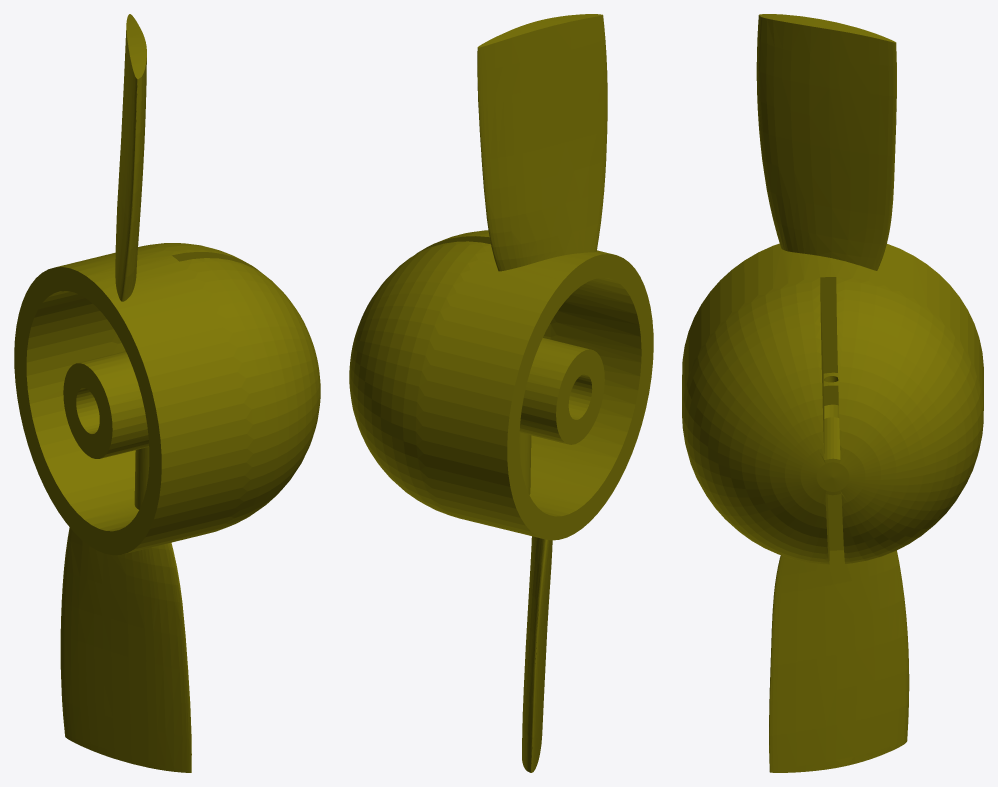
File: propeller.dae
The picture shows the model from 3 angles, left to right: view 1: azimuth 30°, elevation 25°; view 2: azimuth 150°, elevation 25°; view 3: azimuth 270°, elevation 25°; orthographic projection. The views are drawn at different scales.
Parts seen in each view (by area): view 1: Propeller_Port; view 2: Propeller_Port; view 3: Propeller_Port.
Boxes of the visible parts, left/top/right/bottom form: Propeller_Port: left=14, top=14, right=320, bottom=772; Propeller_Port: left=349, top=14, right=653, bottom=772; Propeller_Port: left=682, top=14, right=983, bottom=772.
Bounding box in the file's own units: 0.025 × 0.03 × 0.081.
